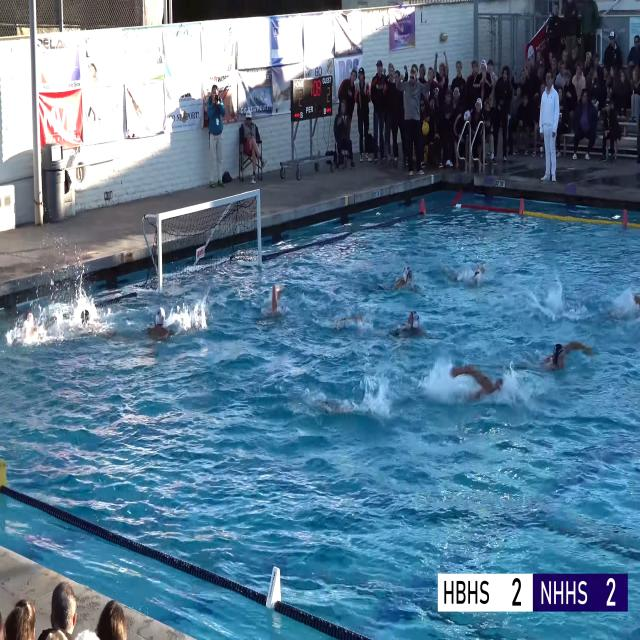ball: (422, 122, 429, 134), (424, 152, 427, 164)
